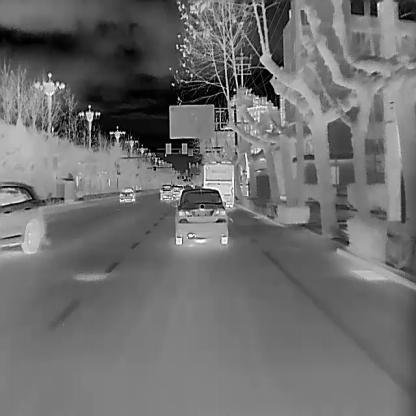bus: (202, 159, 234, 207)
car: (0, 180, 46, 254), (171, 185, 228, 244), (159, 184, 175, 199), (118, 187, 134, 201), (170, 185, 184, 199)
